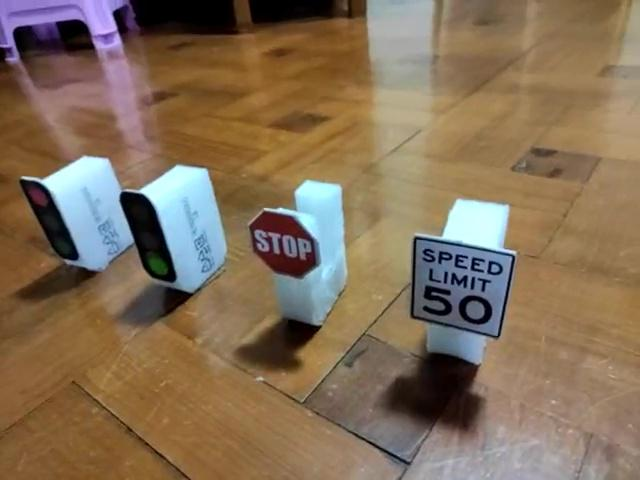Green Traffic Light: (115, 190, 176, 283)
Red Traffic Light: (17, 174, 83, 257)
Speed Limit 50: (407, 231, 515, 339)
Stop Sign: (245, 208, 321, 280)
